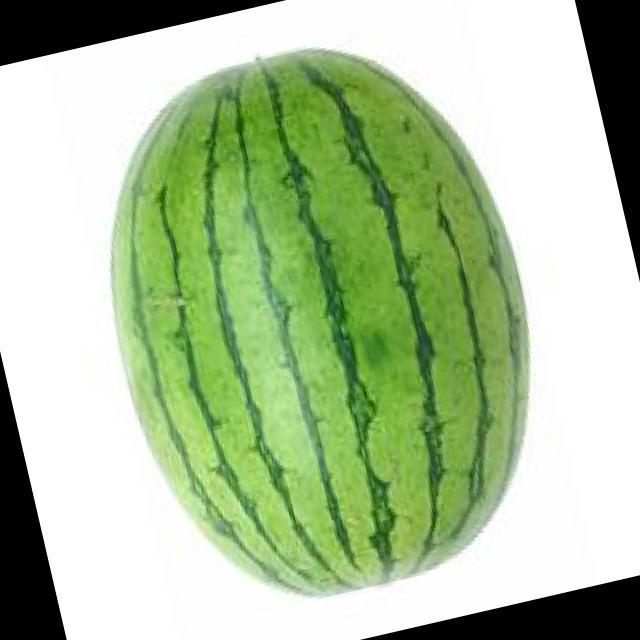watermelon: (109, 50, 540, 605)
